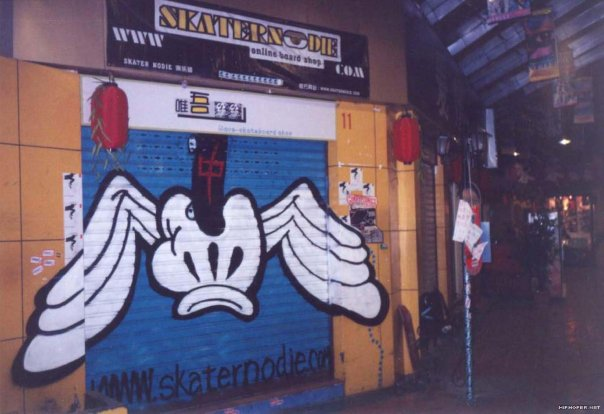graffity: (11, 134, 400, 393)
